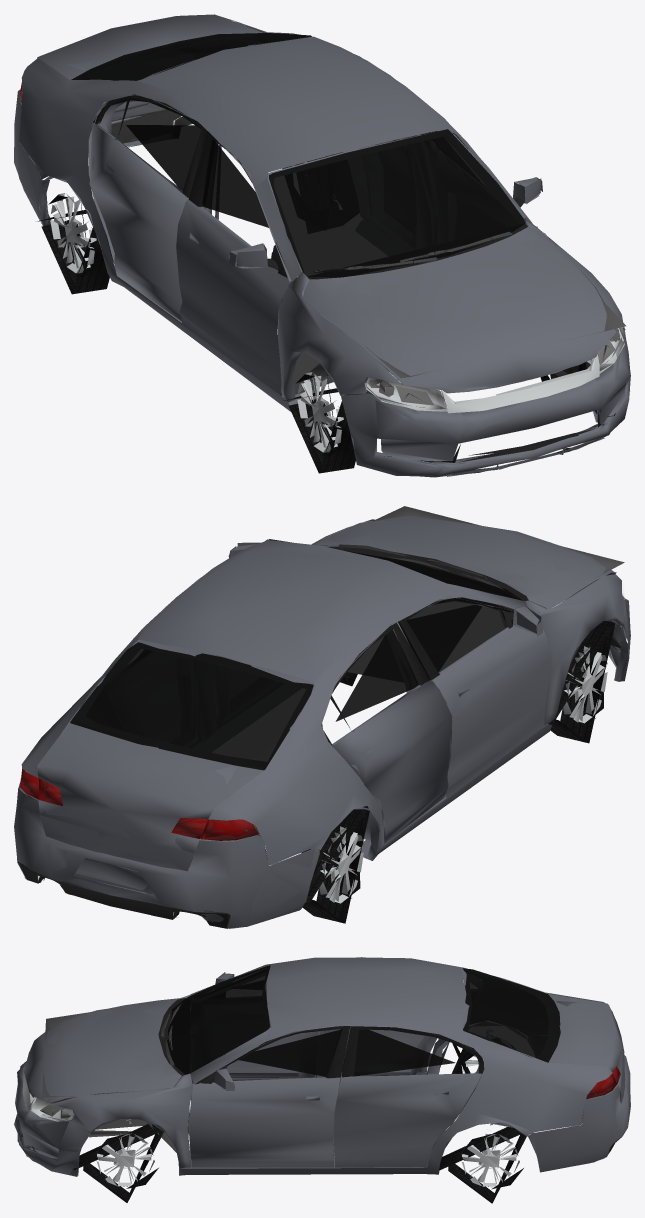
File: car-real-sedan-s.glb
3 renders of one model, top to bottom at view 1: azimuth 30°, elevation 25°; view 2: azimuth 150°, elevation 25°; view 3: azimuth 270°, elevation 25°, orthographic. The views are drawn at different scales.
Parts seen in each view (by area): view 1: body, body-Glass_ext-tinted, wheel-front-right, wheel-back-right, body-Metal_-_Chrome_-_Rough, body-Metal-dark, body-Plastic_ext_matt, body-Headlight_Metal, body-Metal_-_Black_-_Rough_0.2; view 2: body, body-Glass_ext-tinted, wheel-back-right, wheel-front-right, body-Metal-dark, body-Glass_-_Red, body-Plastic_ext_matt, body-Headlight_Metal, body-Metal_-_Black_-_Rough_0.2; view 3: body, body-Glass_ext-tinted, wheel-front-left, wheel-back-left, body-Metal-dark, body-Metal_-_Chrome_-_Rough, body-Headlight_Metal, body-Plastic_ext_matt, body-Glass_-_Red, wheel-back-right.
Boxes of the visible parts, box(x1,y1,x2,y2) form: body: box(14, 14, 630, 477); body-Glass_ext-tinted: box(71, 33, 527, 279); wheel-front-right: box(283, 372, 360, 473); wheel-back-right: box(37, 193, 113, 294); body-Metal_-_Chrome_-_Rough: box(364, 327, 624, 413); body-Metal-dark: box(293, 226, 625, 394); body-Plastic_ext_matt: box(307, 224, 615, 462); body-Headlight_Metal: box(20, 91, 620, 405); body-Metal_-_Black_-_Rough_0.2: box(314, 231, 512, 272); body: box(14, 515, 630, 928); body-Glass_ext-tinted: box(70, 539, 522, 770); wheel-back-right: box(301, 806, 369, 923); wheel-front-right: box(548, 621, 615, 743); body-Metal-dark: box(347, 506, 624, 674); body-Glass_-_Red: box(20, 769, 259, 840); body-Plastic_ext_matt: box(328, 546, 620, 649); body-Headlight_Metal: box(20, 772, 254, 837); body-Metal_-_Black_-_Rough_0.2: box(338, 544, 517, 598); body: box(14, 957, 630, 1176); body-Glass_ext-tinted: box(167, 965, 560, 1076); wheel-front-left: box(73, 1124, 163, 1202); wheel-back-left: box(438, 1127, 526, 1203); body-Metal-dark: box(42, 1012, 191, 1152); body-Metal_-_Chrome_-_Rough: box(22, 1072, 74, 1121); body-Headlight_Metal: box(40, 1070, 616, 1118); body-Plastic_ext_matt: box(18, 998, 185, 1160); body-Glass_-_Red: box(586, 1066, 620, 1099); wheel-back-right: box(452, 1043, 484, 1073).
Size of the model in its own units: 2.09 by 1.55 by 4.99.
13 materials, 4 textured.
